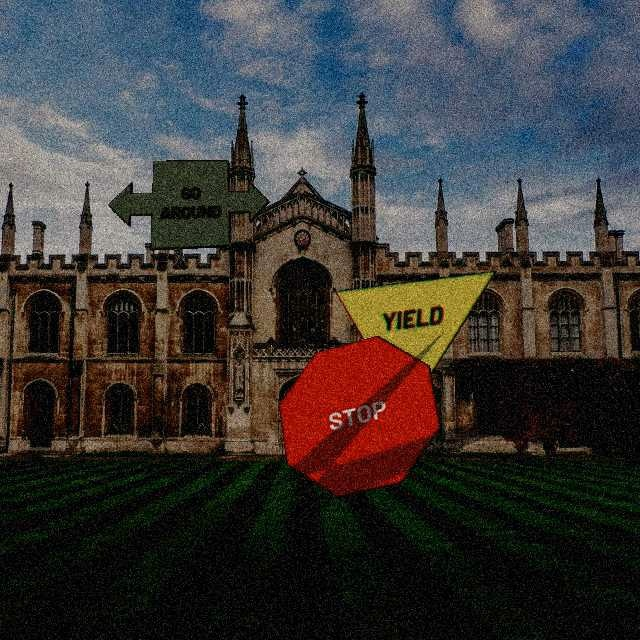GO_AROUND: (107, 160, 270, 250)
STOP: (278, 335, 441, 498)
YIELD: (334, 270, 497, 414)
